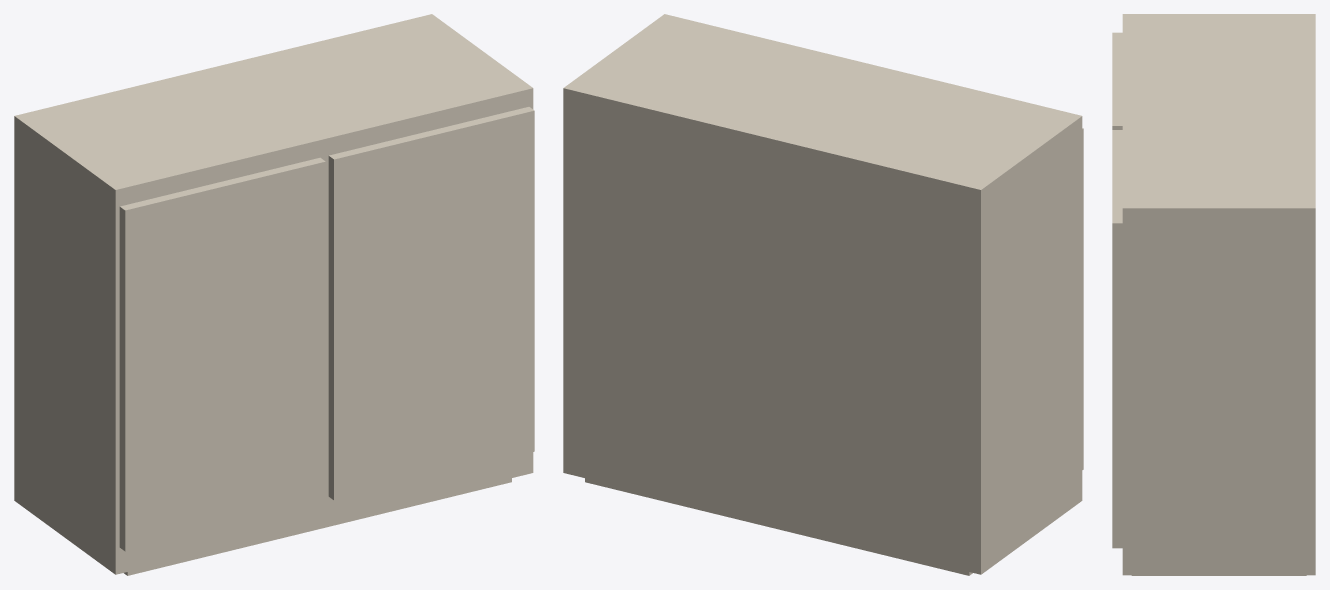
Rendered from storage.glb.
The picture shows the model from 3 angles, left to right: view 1: azimuth 30°, elevation 25°; view 2: azimuth 150°, elevation 25°; view 3: azimuth 270°, elevation 25°; orthographic projection. The views are drawn at different scales.
Parts seen in each view (by area): view 1: cabinet carcass, left door, right door, base plinth; view 2: cabinet carcass, base plinth, left door; view 3: cabinet carcass, right door, left door.
Part boxes in pixels (x1,y1,x2,y2): cabinet carcass: (14,14,533,574); left door: (119,157,325,551); right door: (328,107,534,500); base plinth: (124,478,511,575); cabinet carcass: (563,14,1082,574); base plinth: (585,478,972,575); left door: (1082,128,1083,469); cabinet carcass: (1122,14,1315,575); right door: (1112,130,1122,548); left door: (1112,32,1122,129).
Size of the model in its own units: 1 by 0.9 by 0.4425.
